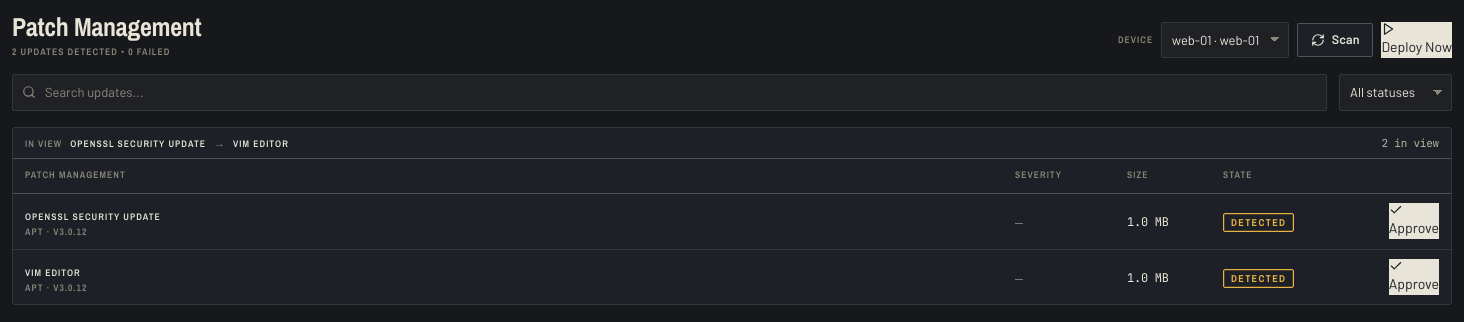
Scenario: Patches page › filters updates by search text
In the field with placeholder "Search updates...": (670, 92) [12,74,1327,111], type "vim"
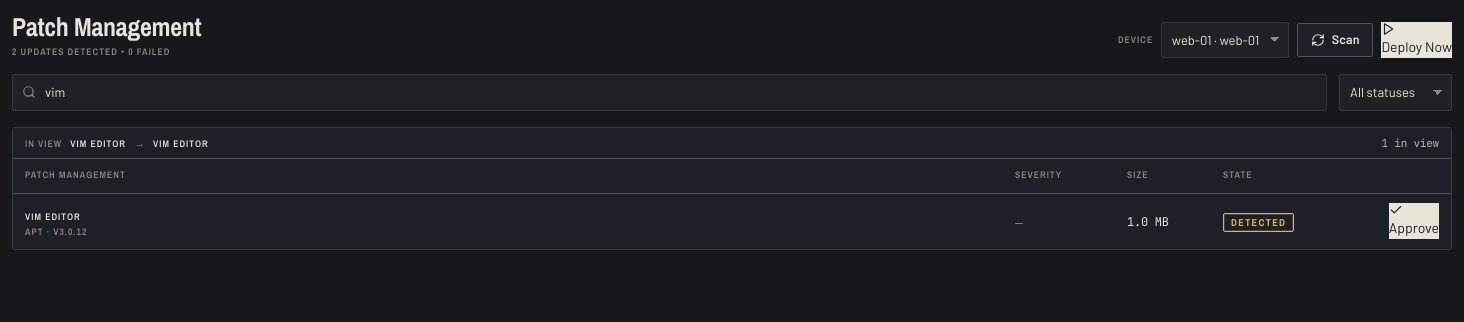
Check: the text "openssl security update" is not shown
Check: the 1st text "vim editor" is shown, box [70,138,126,150]
